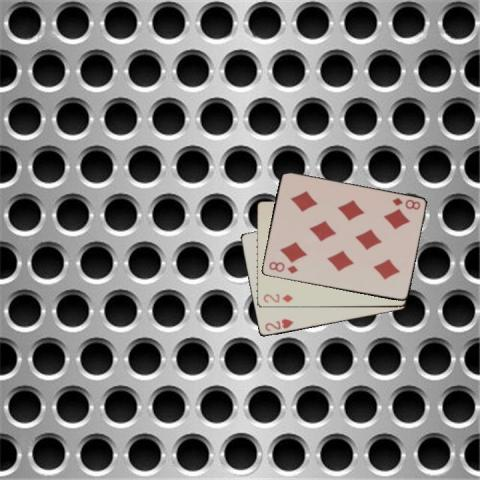2d: (260, 291, 294, 304)
2h: (262, 316, 295, 333)
8d: (266, 258, 299, 274), (389, 195, 421, 211)
